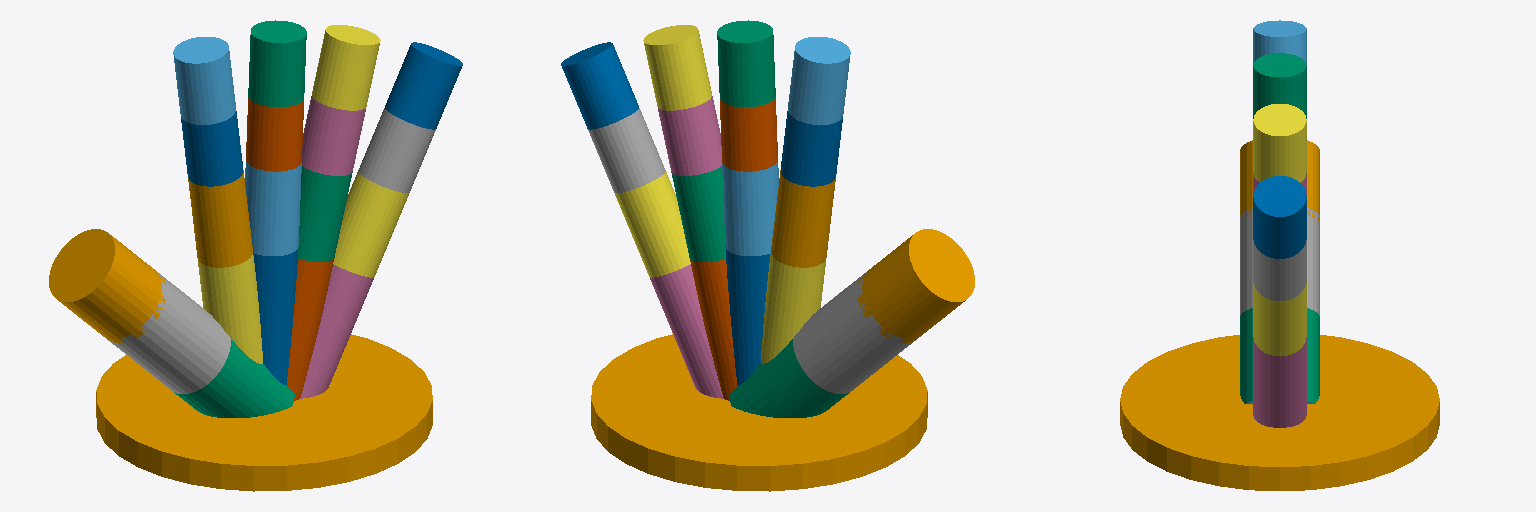
The robot description file, URDF, robot "robot_hand":
<?xml version="1.0"?>
<robot name="robot_hand">
  <link name="base_link">
    <visual>
      <geometry>
        <cylinder length="0.01" radius="0.06"/>
      </geometry>
    </visual>
  </link>
  
  <!-- metacarpal -->
  
  <link name="thumb_metacarpal_zero">
    <visual>
      <geometry>
        <cylinder length="0.0" radius="0.015"/>
      </geometry>
      <origin rpy="0 0 0" xyz="0 0 0.0"/>
    </visual>
  </link>
  
  <link name="thumb_metacarpal">
    <visual>
      <geometry>
        <cylinder length="0.03702" radius="0.015"/>
      </geometry>
      <origin rpy="0 0 0" xyz="0 0 0.01851"/>
    </visual>
  </link>

  <link name="fore_finger_metacarpal">
    <visual>
      <geometry>
        <cylinder length="0.0645" radius="0.01"/>
      </geometry>
      <origin rpy="0 0 0" xyz="0 0 0.03225"/>
    </visual>
  </link>
  
  <link name="middle_finger_metacarpal">
    <visual>
      <geometry>
        <cylinder length="0.0633" radius="0.01"/>
      </geometry>
      <origin rpy="0 0 0" xyz="0 0 0.03165"/>
    </visual>
  </link>

  <link name="ring_finger_metacarpal">
    <visual>
      <geometry>
        <cylinder length="0.05854" radius="0.01"/>
      </geometry>
      <origin rpy="0 0 0" xyz="0 0 0.02927"/>
    </visual>
  </link>
  
  <link name="little_finger_metacarpal">
    <visual>
      <geometry>
        <cylinder length="0.05293" radius="0.01"/>
      </geometry>
      <origin rpy="0 0 0" xyz="0 0 0.026465"/>
    </visual>
  </link>
  
  <!-- proximal -->
  
  <link name="thumb_proximal">
    <visual>
      <geometry>
        <cylinder length="0.040" radius="0.015"/>
      </geometry>
      <origin rpy="0 0 0" xyz="0 0 0.020"/>
    </visual>
  </link>
  
  <link name="fore_finger_proximal">
    <visual>
      <geometry>
        <cylinder length="0.033" radius="0.01"/>
      </geometry>
      <origin rpy="0 0 0" xyz="0 0 0.0165"/>
    </visual>
  </link>
  
  <link name="middle_finger_proximal">
    <visual>
      <geometry>
        <cylinder length="0.033" radius="0.01"/>
      </geometry>
      <origin rpy="0 0 0" xyz="0 0 0.0165"/>
    </visual>
  </link>
  
  <link name="ring_finger_proximal">
    <visual>
      <geometry>
        <cylinder length="0.033" radius="0.01"/>
      </geometry>
      <origin rpy="0 0 0" xyz="0 0 0.0165"/>
    </visual>
  </link>
  
  <link name="little_finger_proximal">
    <visual>
      <geometry>
        <cylinder length="0.033" radius="0.01"/>
      </geometry>
      <origin rpy="0 0 0" xyz="0 0 0.0165"/>
    </visual>
  </link>
  
  <!-- Intermediate bone -->
  
  <link name="fore_finger_inter">
    <visual>
      <geometry>
        <cylinder length="0.025" radius="0.01"/>
      </geometry>
      <origin rpy="0 0 0" xyz="0 0 0.0125"/>
    </visual>
  </link>
  
  <link name="middle_finger_inter">
    <visual>
      <geometry>
        <cylinder length="0.025" radius="0.01"/>
      </geometry>
      <origin rpy="0 0 0" xyz="0 0 0.0125"/>
    </visual>
  </link>
  
  <link name="ring_finger_inter">
    <visual>
      <geometry>
        <cylinder length="0.025" radius="0.01"/>
      </geometry>
      <origin rpy="0 0 0" xyz="0 0 0.0125"/>
    </visual>
  </link>
  
  <link name="little_finger_inter">
    <visual>
      <geometry>
        <cylinder length="0.025" radius="0.01"/>
      </geometry>
      <origin rpy="0 0 0" xyz="0 0 0.0125"/>
    </visual>
  </link>
  
    <!-- Distal bone -->
    
    <link name="thumb_distal">
    <visual>
      <geometry>
        <cylinder length="0.030" radius="0.015"/>
      </geometry>
      <origin rpy="0 0 0" xyz="0 0 0.0150"/>
    </visual>
  </link>
    
  <link name="fore_finger_distal">
    <visual>
      <geometry>
        <cylinder length="0.025" radius="0.01"/>
      </geometry>
      <origin rpy="0 0 0" xyz="0 0 0.0125"/>
    </visual>
  </link>
  
  <link name="middle_finger_distal">
    <visual>
      <geometry>
        <cylinder length="0.025" radius="0.01"/>
      </geometry>
      <origin rpy="0 0 0" xyz="0 0 0.0125"/>
    </visual>
  </link>
  
  <link name="ring_finger_distal">
    <visual>
      <geometry>
        <cylinder length="0.025" radius="0.01"/>
      </geometry>
      <origin rpy="0 0 0" xyz="0 0 0.0125"/>
    </visual>
  </link>
  
  <link name="little_finger_distal">
    <visual>
      <geometry>
        <cylinder length="0.025" radius="0.01"/>
      </geometry>
      <origin rpy="0 0 0" xyz="0 0 0.0125"/>
    </visual>
  </link>
  
  
  
  <!-- fixed Joints -->
  
  <joint name="base_to_fore_finger" type="fixed">
    <parent link="base_link"/>
    <child link="fore_finger_metacarpal"/>
    <origin rpy="0 -0.1193805 0" xyz="-0.0085 0 0"/>
  </joint>
  
  <joint name="base_to_middle_finger" type="fixed">
    <parent link="base_link"/>
    <child link="middle_finger_metacarpal"/>
    <origin rpy="0 0.03961897 0" xyz="0 0 0.0"/>
  </joint>
  
  <joint name="base_to_ring_finger" type="fixed">
    <parent link="base_link"/>
    <child link="ring_finger_metacarpal"/>
    <origin rpy="0 0.2303835 0" xyz="0.00403 0 0"/>
  </joint>
  
  <joint name="base_to_little_finger" type="fixed">
    <parent link="base_link"/>
    <child link="little_finger_metacarpal"/>
    <origin rpy="0 0.45186574 0" xyz="0.01154 0 0"/>
  </joint>

  
  <joint name="base_to_thumb" type="revolute">
    <axis xyz="1 0 0"/>
    <limit effort="1000.0" lower="0.0" upper="-1.5708" velocity="0.5"/>
    <parent link="base_link"/>
    <child link="thumb_metacarpal_zero"/>
    <origin rpy="0 -0.78958695 0" xyz="-0.001181 0 0"/>
  </joint>
  
  <joint name="thumb_meta_to_proximal_zero" type="revolute">
    <axis xyz="0 1 1"/>
    <limit effort="1000.0" lower="0.0" upper="-0.3" velocity="0.5"/>
    <parent link="thumb_metacarpal_zero"/>
    <child link="thumb_metacarpal"/>
    <origin rpy="0 0 0" xyz="0 0 0.0"/>
  </joint>
  
  <joint name="thumb_meta_to_proximal" type="revolute">
    <axis xyz="1 0 1"/>
    <limit effort="1000.0" lower="0.0" upper="-1.5708" velocity="0.5"/>
    <parent link="thumb_metacarpal"/>
    <child link="thumb_proximal"/>
    <origin rpy="0 0 0" xyz="0 0 0.03702"/>
  </joint>
  
  <joint name="fore_finger_meta_to_proximal" type="revolute">
    <axis xyz="1 0 0"/>
    <limit effort="1000.0" lower="0.0" upper="-1.5708" velocity="0.5"/>
    <parent link="fore_finger_metacarpal"/>
    <child link="fore_finger_proximal"/>
    <origin rpy="0 0 0" xyz="0 0 0.0645"/>
  </joint>
  
  <joint name="middle_finger_meta_to_proximal" type="revolute">
    <axis xyz="1 0 0"/>
    <limit effort="1000.0" lower="0.0" upper="-1.5708" velocity="0.5"/>
    <parent link="middle_finger_metacarpal"/>
    <child link="middle_finger_proximal"/>
    <origin rpy="0 0 0" xyz="0 0 0.0633"/>
  </joint>
  
  <joint name="ring_finger_meta_to_proximal" type="revolute">
    <axis xyz="1 0 0"/>
    <limit effort="1000.0" lower="0.0" upper="-1.5708" velocity="0.5"/>
    <parent link="ring_finger_metacarpal"/>
    <child link="ring_finger_proximal"/>
    <origin rpy="0 0 0" xyz="0 0 0.05854"/>
  </joint>
  
  <joint name="little_finger_meta_to_proximal" type="revolute">
    <axis xyz="1 0 0"/>
    <limit effort="1000.0" lower="0.0" upper="-1.5708" velocity="0.5"/>
    <parent link="little_finger_metacarpal"/>
    <child link="little_finger_proximal"/>
    <origin rpy="0 0 0" xyz="0 0 0.05293"/>
  </joint>
  
  
  
  <joint name="fore_finger_proximal_to_inter" type="revolute">
    <axis xyz="1 0 0"/>
    <limit effort="1000.0" lower="0.0" upper="-1.5708" velocity="0.5"/>
    <parent link="fore_finger_proximal"/>
    <child link="fore_finger_inter"/>
    <origin rpy="0 0 0" xyz="0 0 0.033"/>
  </joint>
  
  <joint name="middle_finger_proximal_to_inter" type="revolute">
    <axis xyz="1 0 0"/>
    <limit effort="1000.0" lower="0.0" upper="-1.5708" velocity="0.5"/>
    <parent link="middle_finger_proximal"/>
    <child link="middle_finger_inter"/>
    <origin rpy="0 0 0" xyz="0 0 0.033"/>
  </joint>
  
  <joint name="ring_finger_proximal_to_inter" type="revolute">
    <axis xyz="1 0 0"/>
    <limit effort="1000.0" lower="0.0" upper="-1.5708" velocity="0.5"/>
    <parent link="ring_finger_proximal"/>
    <child link="ring_finger_inter"/>
    <origin rpy="0 0 0" xyz="0 0 0.033"/>
  </joint>
  
  <joint name="little_finger_proximal_to_inter" type="revolute">
    <axis xyz="1 0 0"/>
    <limit effort="1000.0" lower="0.0" upper="-1.5708" velocity="0.5"/>
    <parent link="little_finger_proximal"/>
    <child link="little_finger_inter"/>
    <origin rpy="0 0 0" xyz="0 0 0.033"/>
  </joint>
  
  
  <joint name="fore_finger_inter_to_distal" type="revolute">
    <axis xyz="1 0 0"/>
    <limit effort="1000.0" lower="0.0" upper="-1.5708" velocity="0.5"/>
    <parent link="fore_finger_inter"/>
    <child link="fore_finger_distal"/>
    <origin rpy="0 0 0" xyz="0 0 0.025"/>
  </joint>
  
  <joint name="middle_finger_inter_to_distal" type="revolute">
    <axis xyz="1 0 0"/>
    <limit effort="1000.0" lower="0.0" upper="-1.5708" velocity="0.5"/>
    <parent link="middle_finger_inter"/>
    <child link="middle_finger_distal"/>
    <origin rpy="0 0 0" xyz="0 0 0.025"/>
  </joint>
  
  <joint name="ring_finger_inter_to_distal" type="revolute">
    <axis xyz="1 0 0"/>
    <limit effort="1000.0" lower="0.0" upper="-1.5708" velocity="0.5"/>
    <parent link="ring_finger_inter"/>
    <child link="ring_finger_distal"/>
    <origin rpy="0 0 0" xyz="0 0 0.025"/>
  </joint>
  
  <joint name="little_finger_inter_to_distal" type="revolute">
    <axis xyz="1 0 0"/>
    <limit effort="1000.0" lower="0.0" upper="1.5708" velocity="0.5"/>
    <parent link="little_finger_inter"/>
    <child link="little_finger_distal"/>
    <origin rpy="0 0 0" xyz="0 0 0.025"/>
  </joint>
  
  <joint name="thumb_meta_to_distal" type="revolute">
    <axis xyz="1 0 0"/>
    <limit effort="1000.0" lower="0.0" upper="-1.5708" velocity="0.5"/>
    <parent link="thumb_proximal"/>
    <child link="thumb_distal"/>
    <origin rpy="0 0 0" xyz="0 0 0.03702"/>
  </joint>


  
</robot>

--- What the picture shows (computed from the rendered views, not written in the file) ---
3 views of the same robot in one strip: view 1: azimuth 30°, elevation 25°; view 2: azimuth 150°, elevation 25°; view 3: azimuth 270°, elevation 25° (orthographic).
Model robot_hand with 21 links and 20 joints (16 revolute, 4 fixed), rooted at base_link, posed every joint at zero.
Links seen in each view (by area): view 1: base_link, thumb_distal, thumb_proximal, little_finger_proximal, fore_finger_distal, middle_finger_distal, fore_finger_proximal, thumb_metacarpal, ring_finger_distal, middle_finger_proximal, little_finger_distal, fore_finger_metacarpal (+8 smaller); view 2: base_link, thumb_distal, thumb_proximal, little_finger_proximal, fore_finger_distal, middle_finger_distal, fore_finger_proximal, thumb_metacarpal, ring_finger_distal, middle_finger_proximal, little_finger_distal, fore_finger_metacarpal (+8 smaller); view 3: base_link, little_finger_distal, little_finger_metacarpal, ring_finger_distal, little_finger_proximal, middle_finger_distal, thumb_proximal, thumb_metacarpal, little_finger_inter, thumb_distal, fore_finger_distal.
Boxes of the visible links, <box> form: base_link: <box>96,334,432,491</box>; thumb_distal: <box>49,229,165,343</box>; thumb_proximal: <box>103,271,230,393</box>; little_finger_proximal: <box>333,172,408,277</box>; fore_finger_distal: <box>173,37,235,124</box>; middle_finger_distal: <box>248,20,306,106</box>; fore_finger_proximal: <box>188,170,252,267</box>; thumb_metacarpal: <box>174,339,294,417</box>; ring_finger_distal: <box>312,25,380,110</box>; middle_finger_proximal: <box>245,162,301,255</box>; little_finger_distal: <box>385,42,462,129</box>; fore_finger_metacarpal: <box>198,254,262,363</box>; base_link: <box>591,334,927,491</box>; thumb_distal: <box>858,229,974,343</box>; thumb_proximal: <box>793,271,920,393</box>; little_finger_proximal: <box>615,172,690,277</box>; fore_finger_distal: <box>788,37,850,124</box>; middle_finger_distal: <box>717,20,775,106</box>; fore_finger_proximal: <box>771,170,835,267</box>; thumb_metacarpal: <box>729,339,849,417</box>; ring_finger_distal: <box>643,25,711,110</box>; middle_finger_proximal: <box>722,162,778,255</box>; little_finger_distal: <box>561,42,638,129</box>; fore_finger_metacarpal: <box>761,254,825,363</box>; base_link: <box>1120,335,1439,490</box>; little_finger_distal: <box>1253,176,1306,258</box>; little_finger_metacarpal: <box>1253,337,1306,427</box>; ring_finger_distal: <box>1253,104,1306,182</box>; little_finger_proximal: <box>1253,282,1306,356</box>; middle_finger_distal: <box>1253,53,1306,118</box>; thumb_proximal: <box>1240,208,1319,315</box>; thumb_metacarpal: <box>1240,308,1319,403</box>; little_finger_inter: <box>1253,240,1306,300</box>; thumb_distal: <box>1240,140,1319,221</box>; fore_finger_distal: <box>1253,20,1306,64</box>.
Size in the robot's own frame: 0.1655 by 0.12 by 0.1583 metres.
Geometry: primitives only (box / cylinder / sphere), no mesh files.